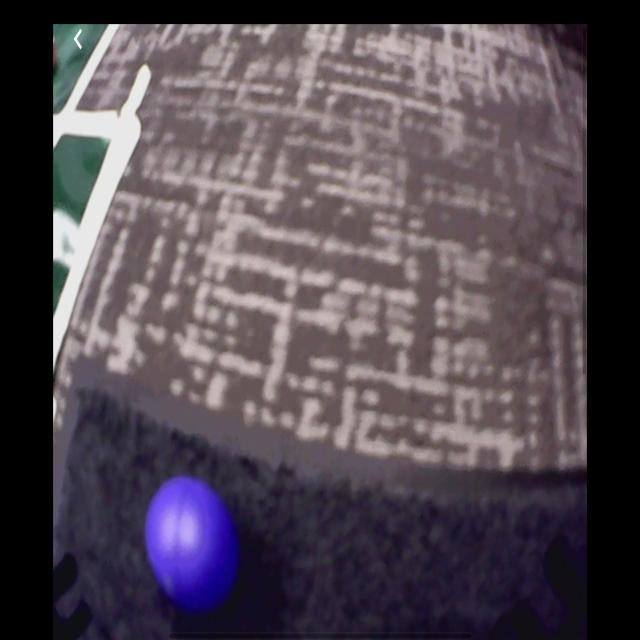ball: (146, 475, 237, 612)
